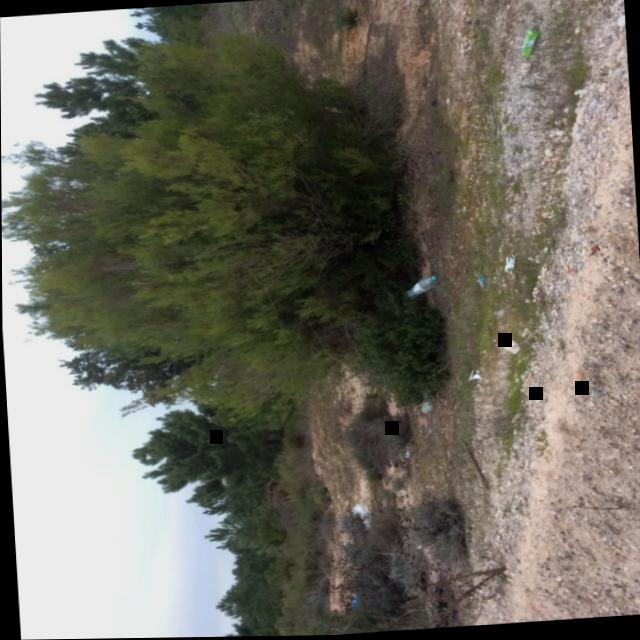Clear plastic bottle: (406, 276, 437, 300)
Drink carton: (521, 30, 538, 57)
Plastic bottle cap: (431, 276, 437, 280)
Unlabeled litter: (504, 255, 515, 272), (475, 278, 484, 287)
